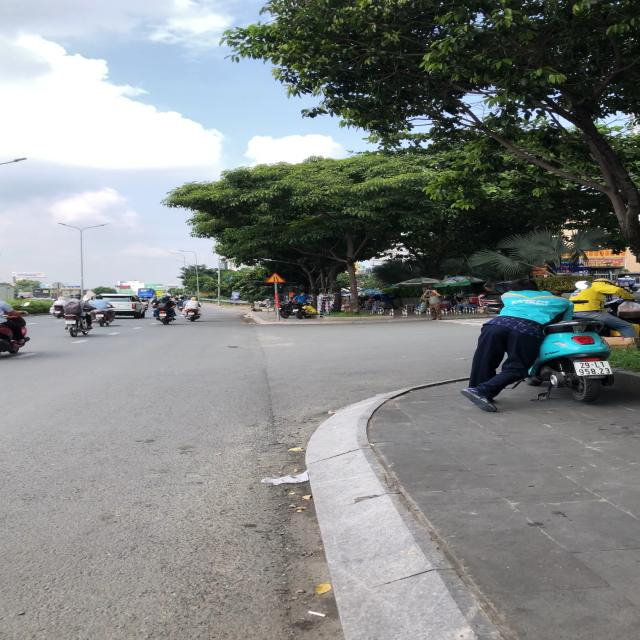Bien bao duong bi thu hep: (265, 272, 287, 283)
